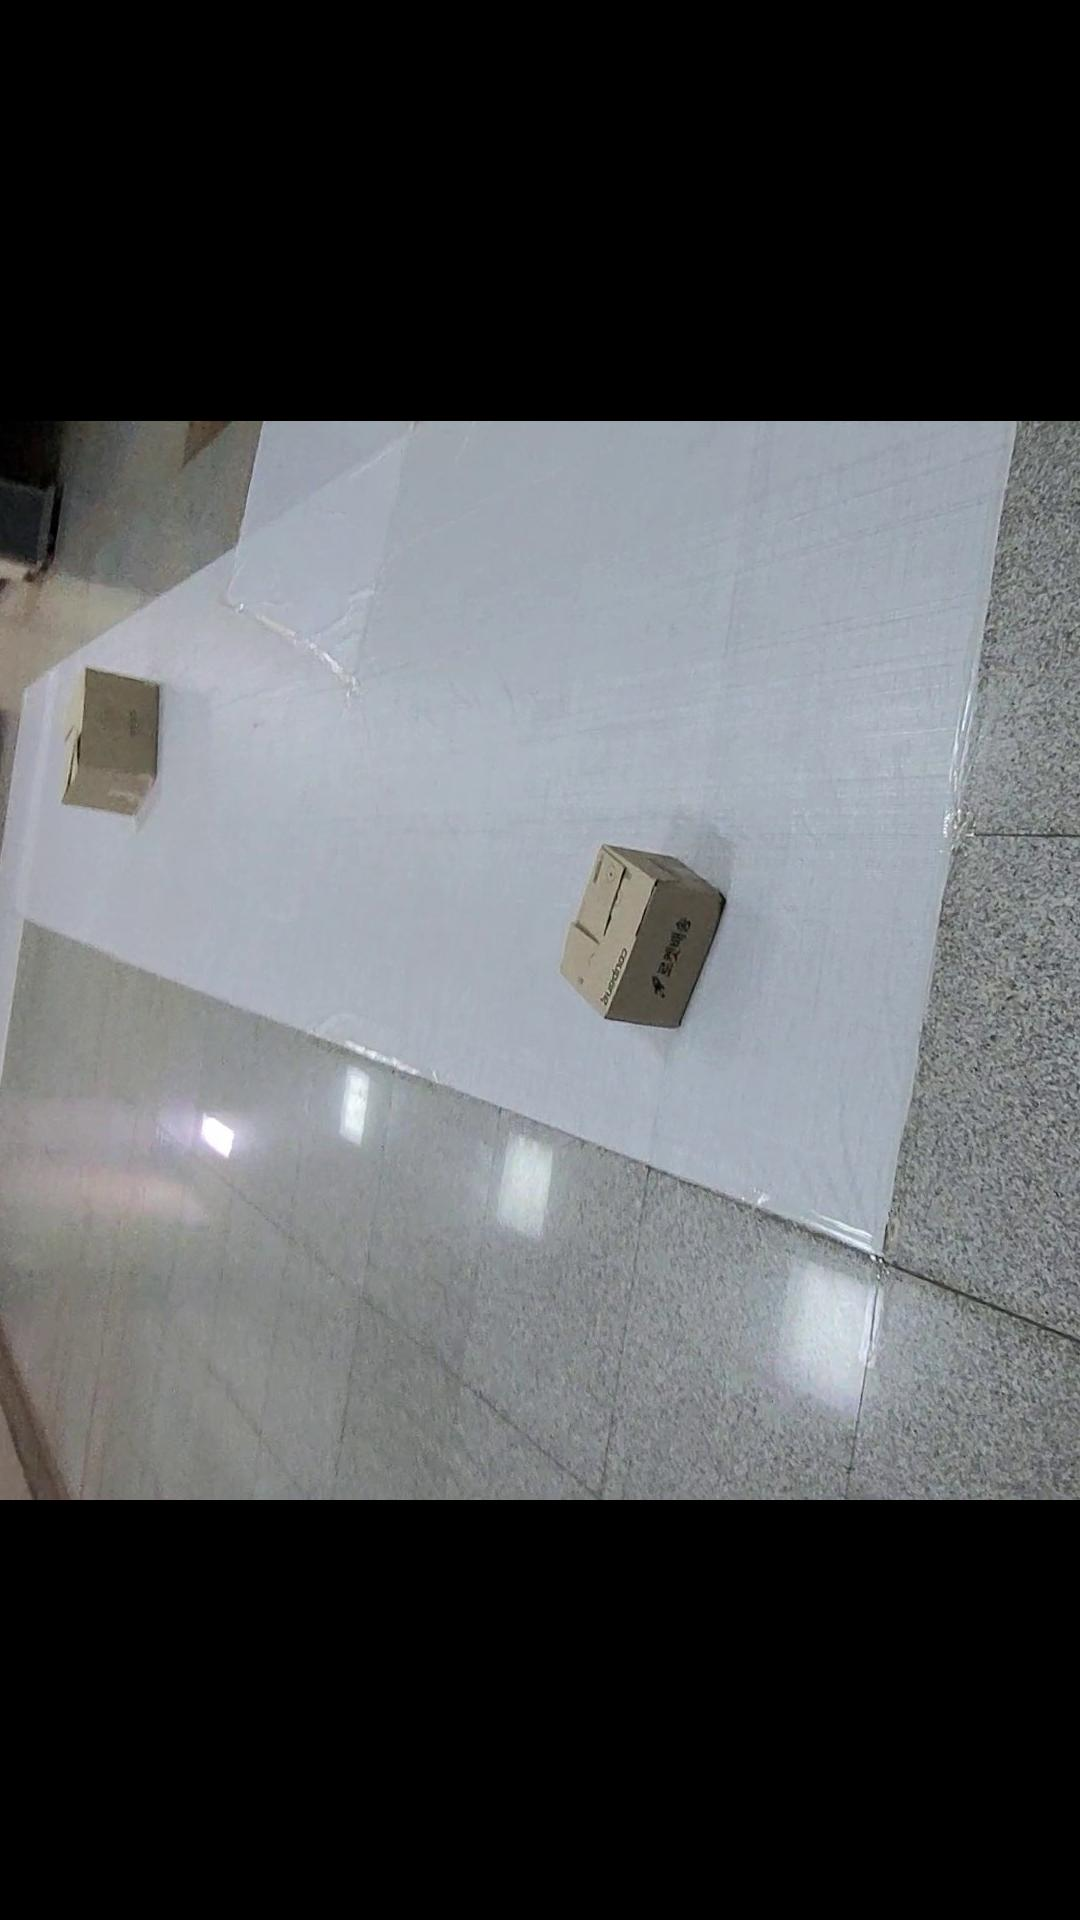Box: (513, 841, 742, 1077), (33, 646, 178, 827)
